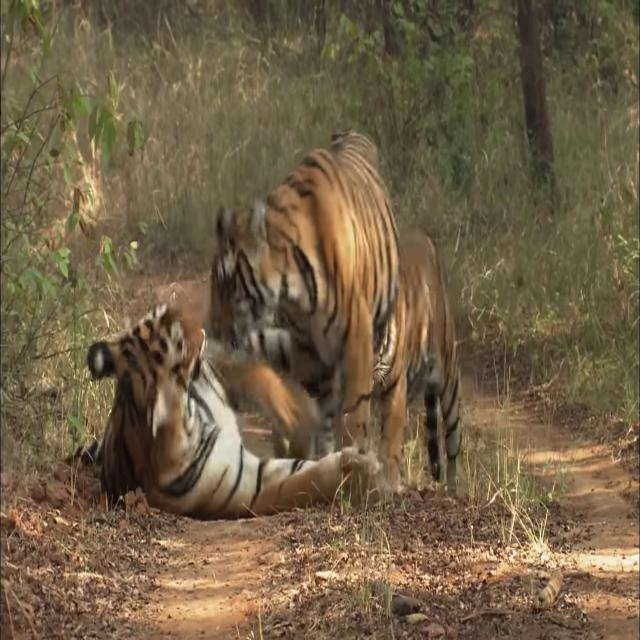tiger: (85, 299, 382, 523), (209, 130, 399, 453)
